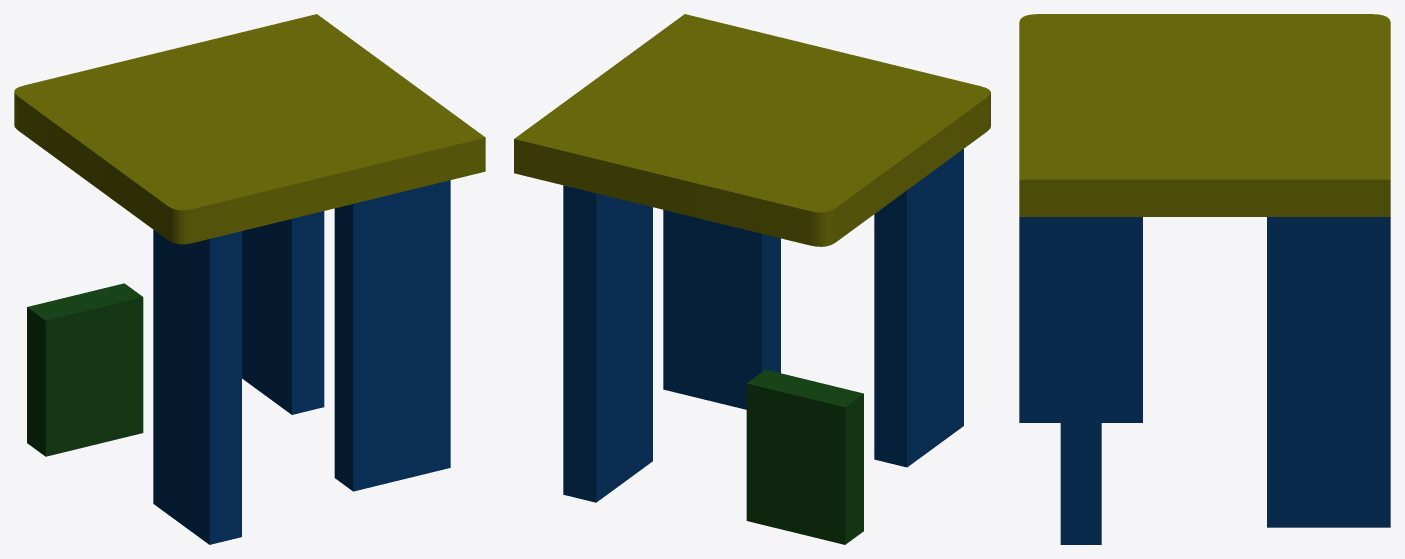
File: Pillar_01_I_F.fbx
3 renders of one model, left to right at view 1: azimuth 30°, elevation 25°; view 2: azimuth 150°, elevation 25°; view 3: azimuth 270°, elevation 25°, orthographic. The views are drawn at different scales.
Parts seen in each view (by area): view 1: 1, 3, 4, 2; view 2: 2, 3, 4, 1; view 3: 2, 1, 3, 4.
Part boxes in pixels (x1,y1,x2,y2): 1: [247, 76, 485, 491]; 3: [92, 113, 331, 544]; 4: [14, 51, 246, 456]; 2: [163, 14, 400, 414]; 2: [514, 76, 754, 502]; 3: [756, 52, 990, 467]; 4: [670, 114, 911, 544]; 1: [600, 14, 840, 409]; 2: [1205, 97, 1390, 527]; 1: [1019, 97, 1204, 544]; 3: [1019, 14, 1204, 422]; 4: [1205, 14, 1390, 96].
Size of the model in its own units: 190 by 200 by 180.
